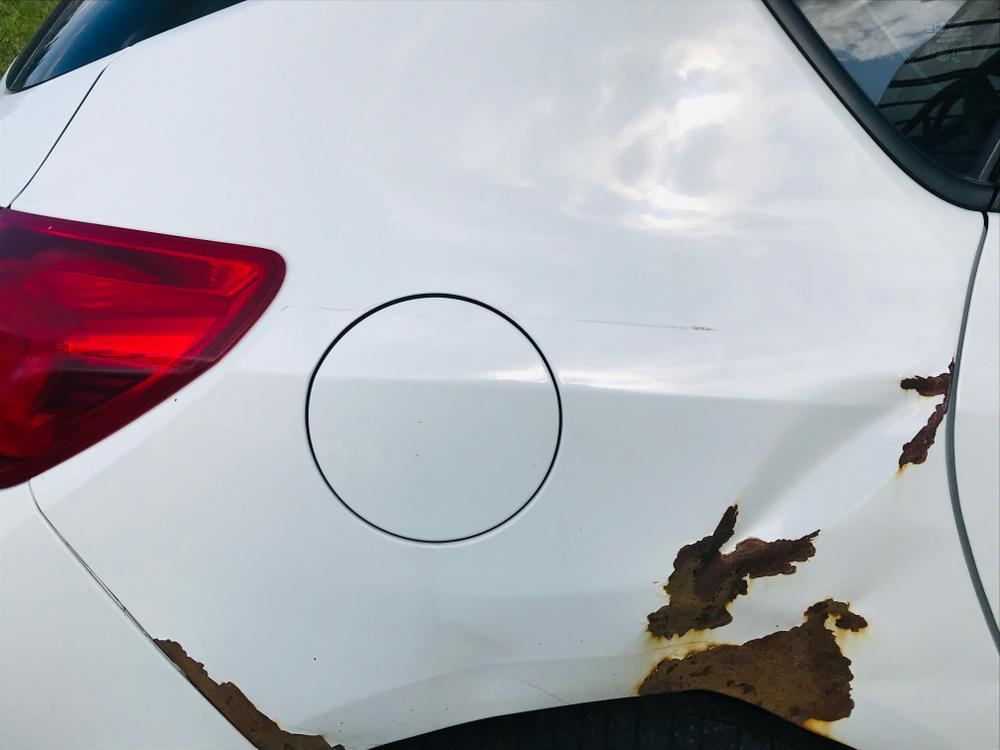dent: (721, 371, 929, 552)
